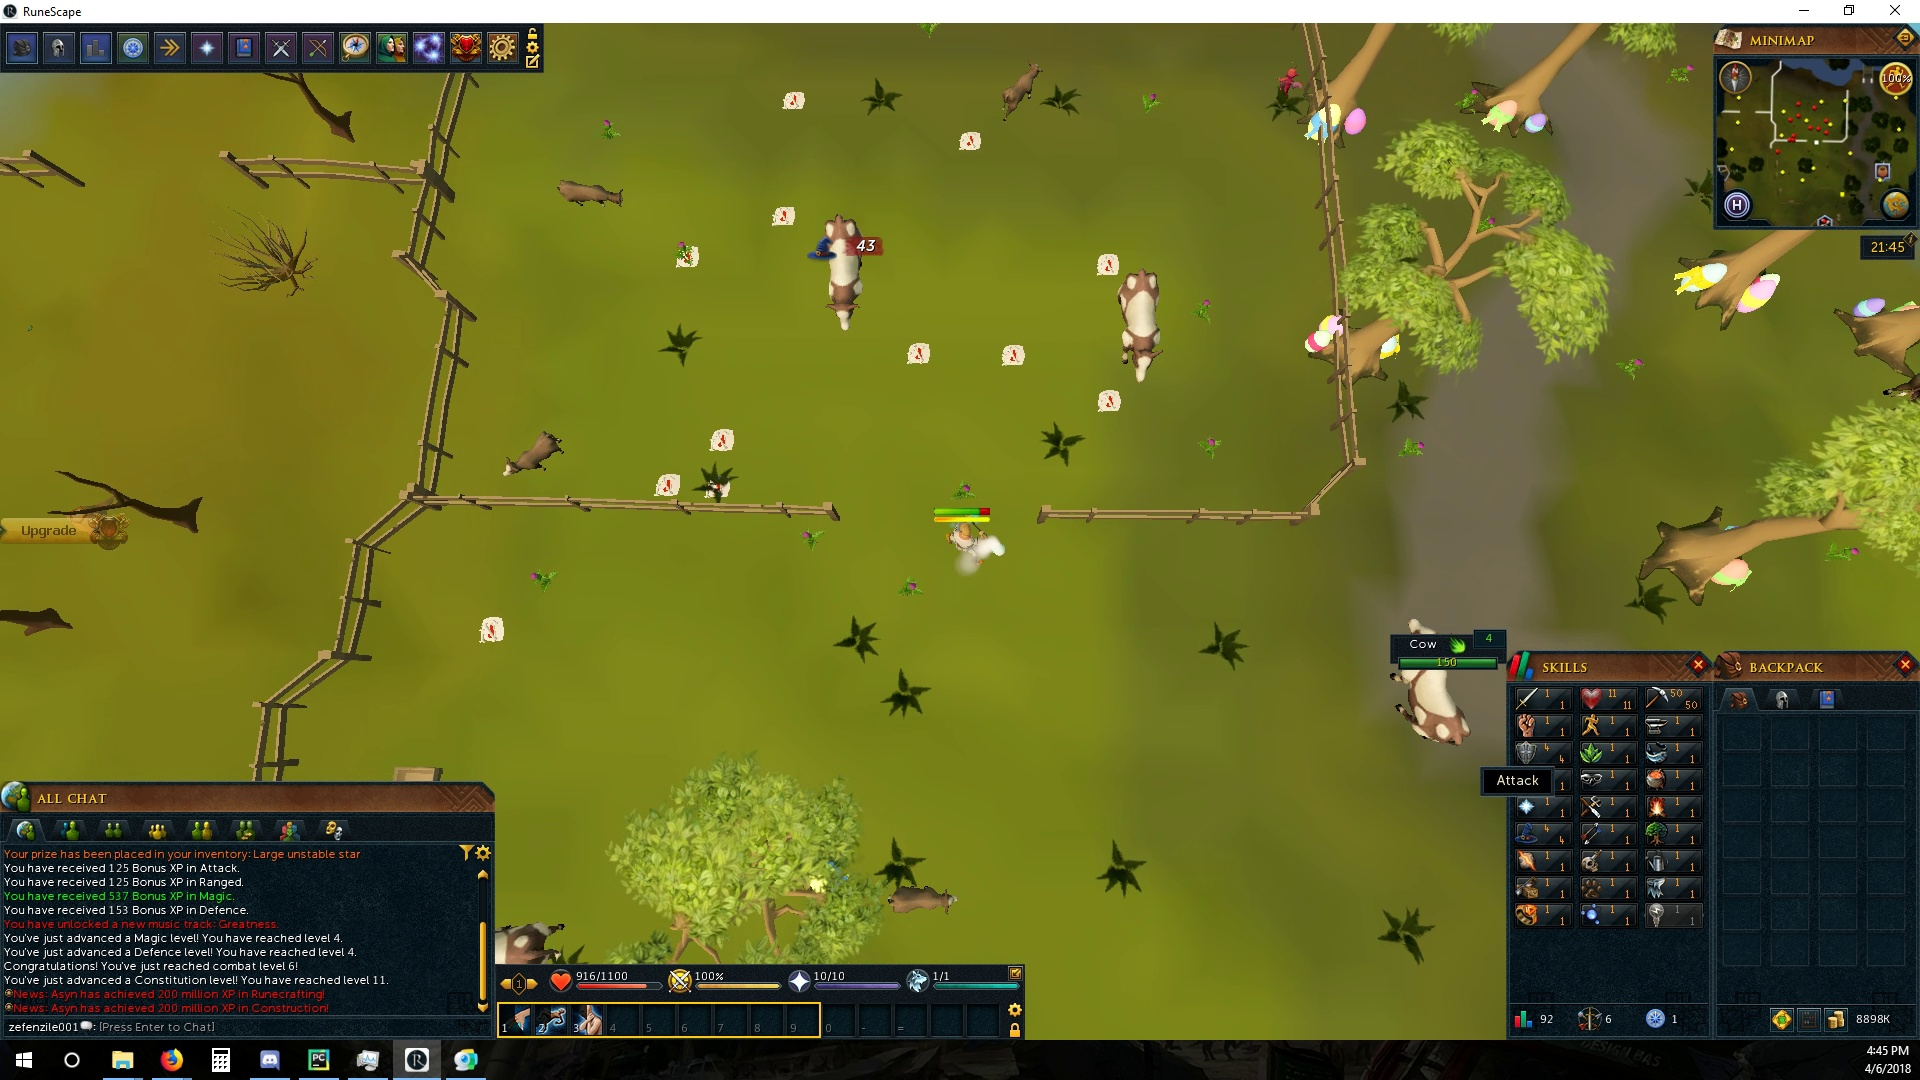calf: (500, 427, 568, 477), (994, 55, 1044, 123), (555, 175, 629, 214), (882, 884, 957, 919)
cow: (1385, 616, 1476, 754), (1112, 270, 1166, 385), (818, 215, 865, 334)
cow_drop: (700, 469, 733, 502), (669, 243, 707, 270), (476, 613, 506, 644), (766, 202, 798, 227), (708, 425, 733, 455), (781, 90, 808, 115), (903, 340, 931, 365), (953, 129, 985, 150), (1095, 251, 1120, 276), (651, 473, 680, 495), (998, 344, 1027, 365), (1095, 390, 1124, 411)
